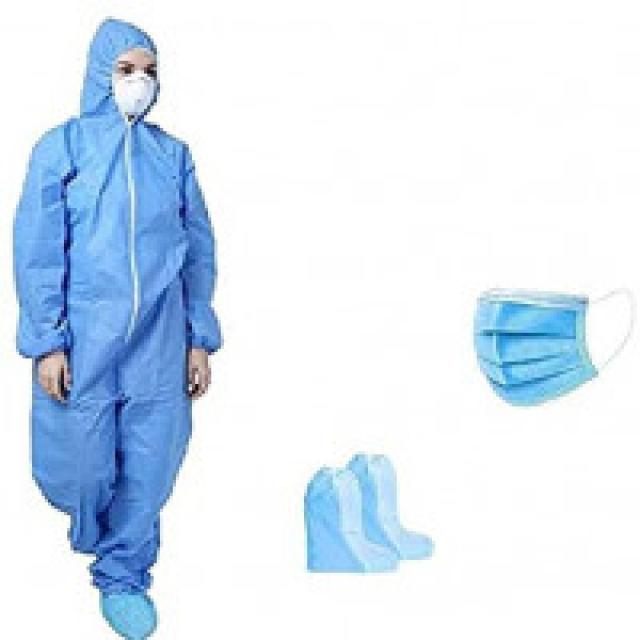Coverall: (6, 9, 227, 640)
Mask: (467, 275, 640, 403), (106, 70, 163, 125)
